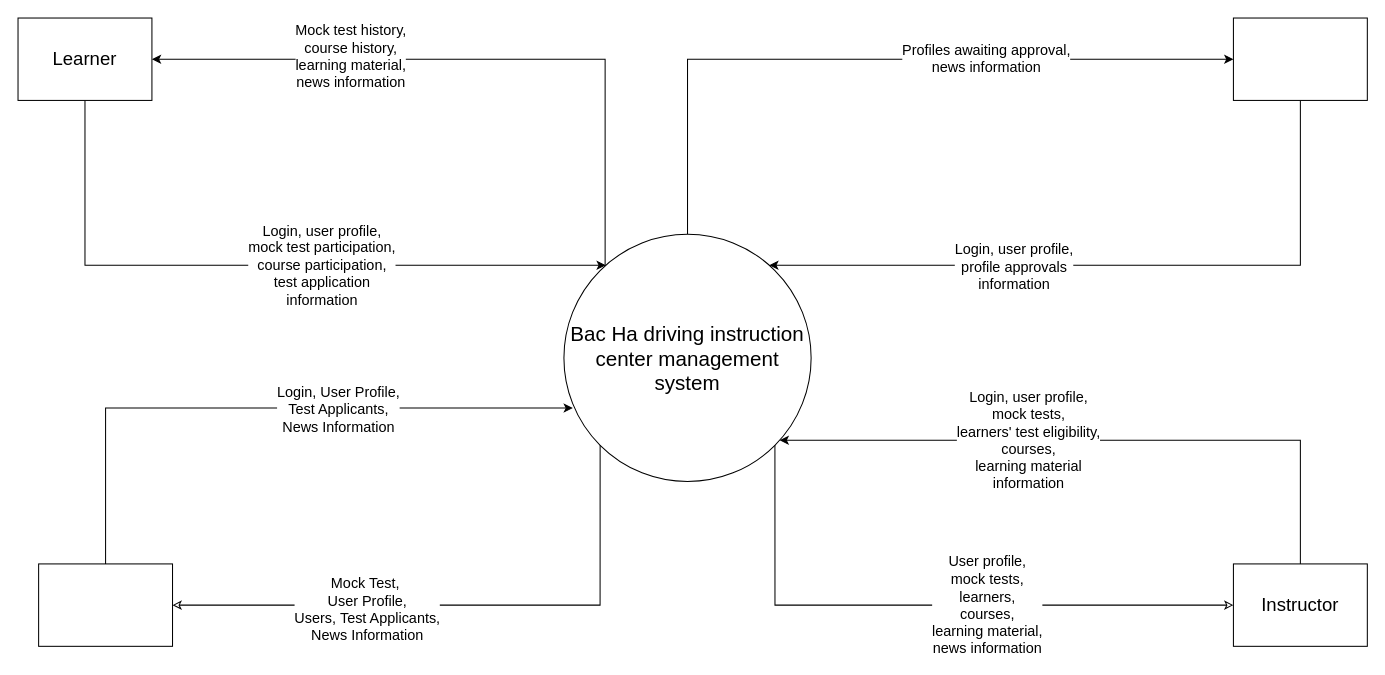
Some shapes in this 1385 by 675 pixel diagram are drawn without their labels. Here are the shapes that lost their labels. From the top down, the centre of each, then its label:
the point at 1299,58: Accountant
the point at 105,604: Admin
